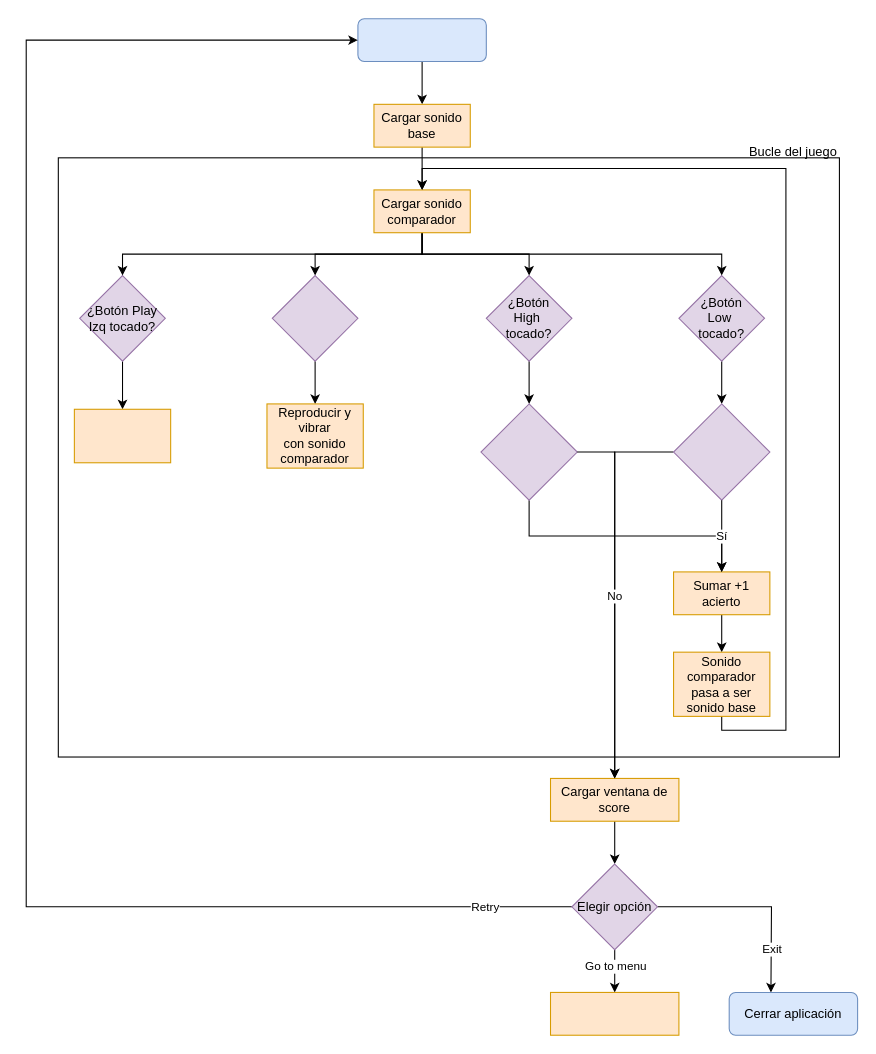
Some shapes in this 876 by 1054 pixel diagram are drawn without their labels. The box of each missing label's shape, as (x1, y1, x2, y2) in pixels:
Cargar escena Higher & Lower: (357, 18, 486, 62)
Cargar escena inicial: (549, 991, 679, 1035)
Reproducir y vibrar con sonido base: (73, 408, 171, 463)
¿Botón Play dcho tocado?: (271, 274, 358, 361)
¿El sonido comparador es más agudo?: (480, 403, 577, 500)
¿El sonido comparador es más grave?: (672, 403, 770, 500)
